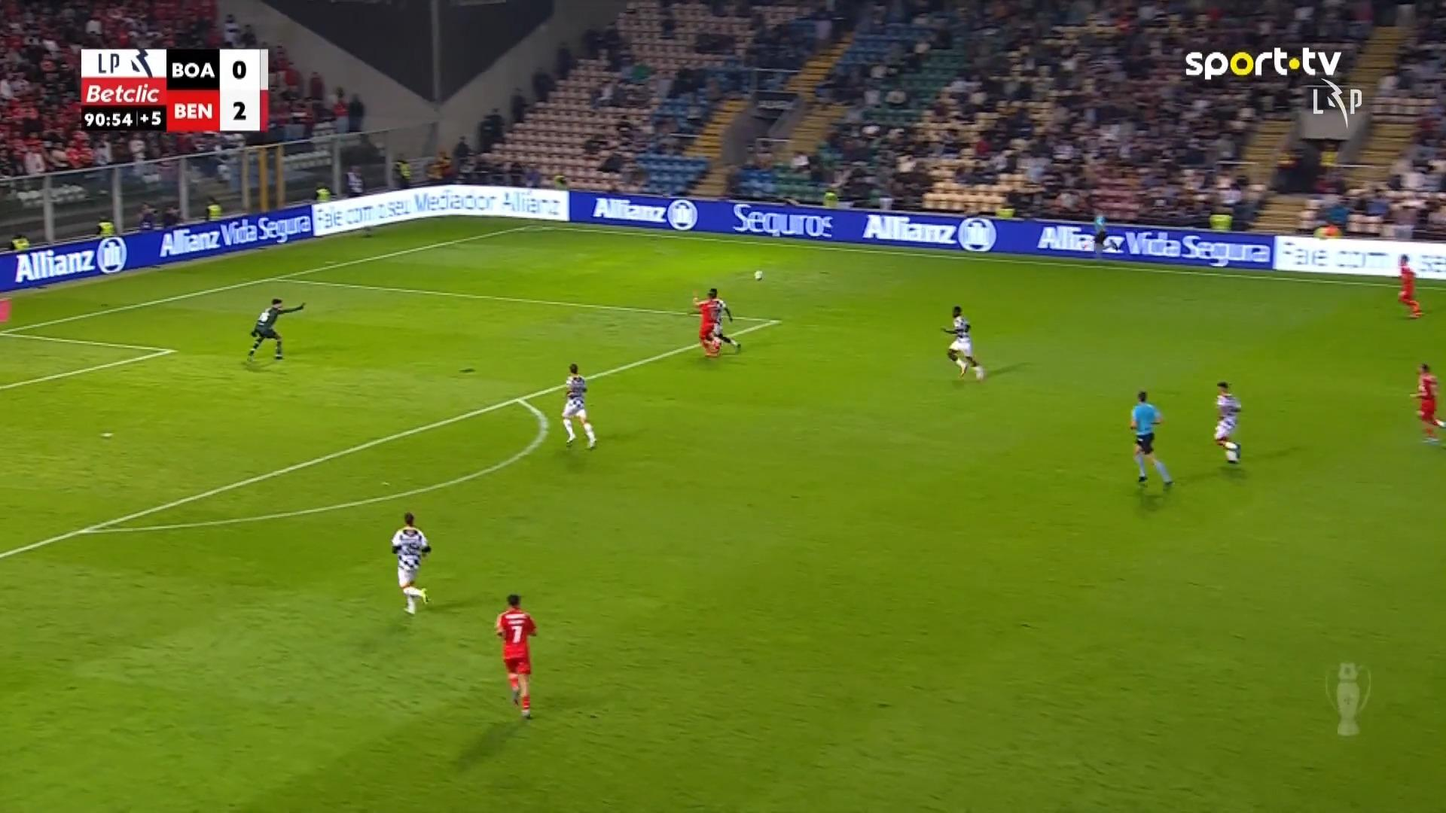ball: (1225, 441, 1240, 462), (753, 269, 762, 280)
goalkeeper: (246, 297, 305, 362)
player: (494, 592, 537, 719), (390, 511, 432, 615), (940, 305, 985, 381), (560, 362, 596, 449), (1409, 361, 1444, 443), (1213, 379, 1242, 464), (709, 288, 741, 352), (692, 290, 720, 358), (1396, 253, 1423, 318)
referee: (1128, 388, 1173, 489), (1091, 209, 1108, 258)
